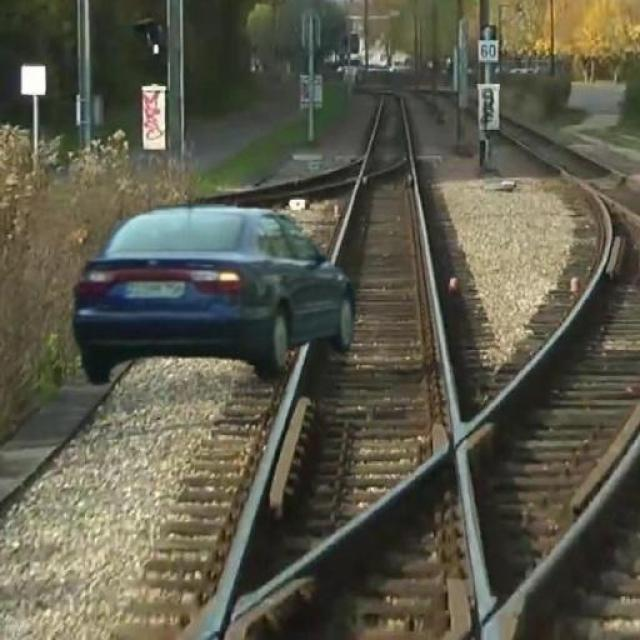vehicle: (72, 201, 358, 390)
